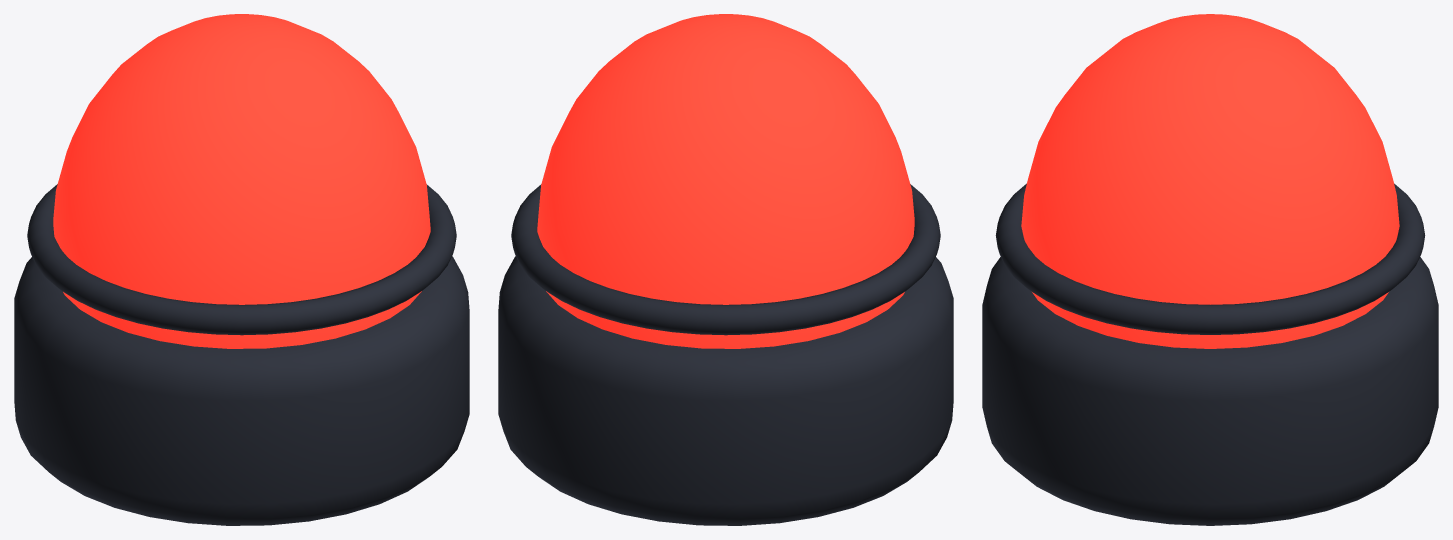
Rendered from Incident_Alarm.glb.
3 renders of one model, left to right at view 1: azimuth 30°, elevation 25°; view 2: azimuth 150°, elevation 25°; view 3: azimuth 270°, elevation 25°, orthographic.
Visible parts, largest first — view 1: Incident_Alarm.Dome, Incident_Alarm.Base, Incident_Alarm.Cage; view 2: Incident_Alarm.Dome, Incident_Alarm.Base, Incident_Alarm.Cage; view 3: Incident_Alarm.Dome, Incident_Alarm.Base, Incident_Alarm.Cage.
Boxes of the visible parts, bbox=[...] form: Incident_Alarm.Dome: bbox=[53, 14, 430, 348]; Incident_Alarm.Base: bbox=[14, 256, 469, 525]; Incident_Alarm.Cage: bbox=[27, 184, 456, 335]; Incident_Alarm.Dome: bbox=[537, 14, 914, 348]; Incident_Alarm.Base: bbox=[498, 256, 953, 525]; Incident_Alarm.Cage: bbox=[511, 184, 940, 335]; Incident_Alarm.Dome: bbox=[1021, 14, 1399, 348]; Incident_Alarm.Base: bbox=[982, 257, 1438, 525]; Incident_Alarm.Cage: bbox=[995, 183, 1425, 334].
Bounding box in the file's own units: 0.24 × 0.24 × 0.24.
